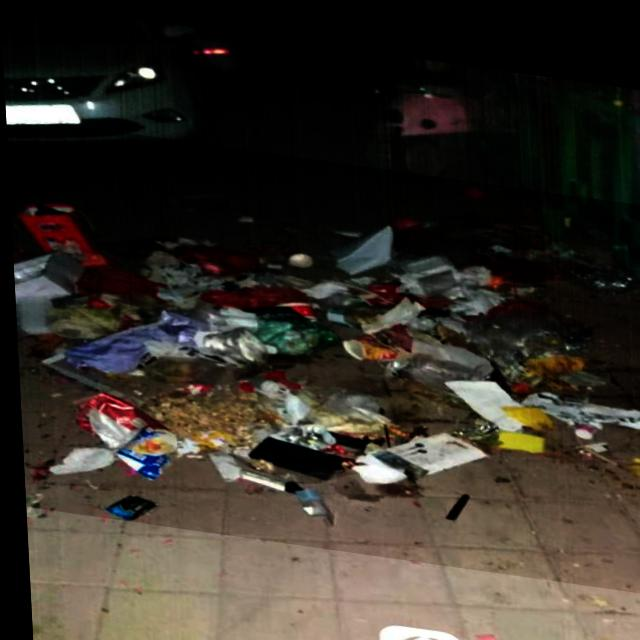garbage: (5, 116, 640, 578)
